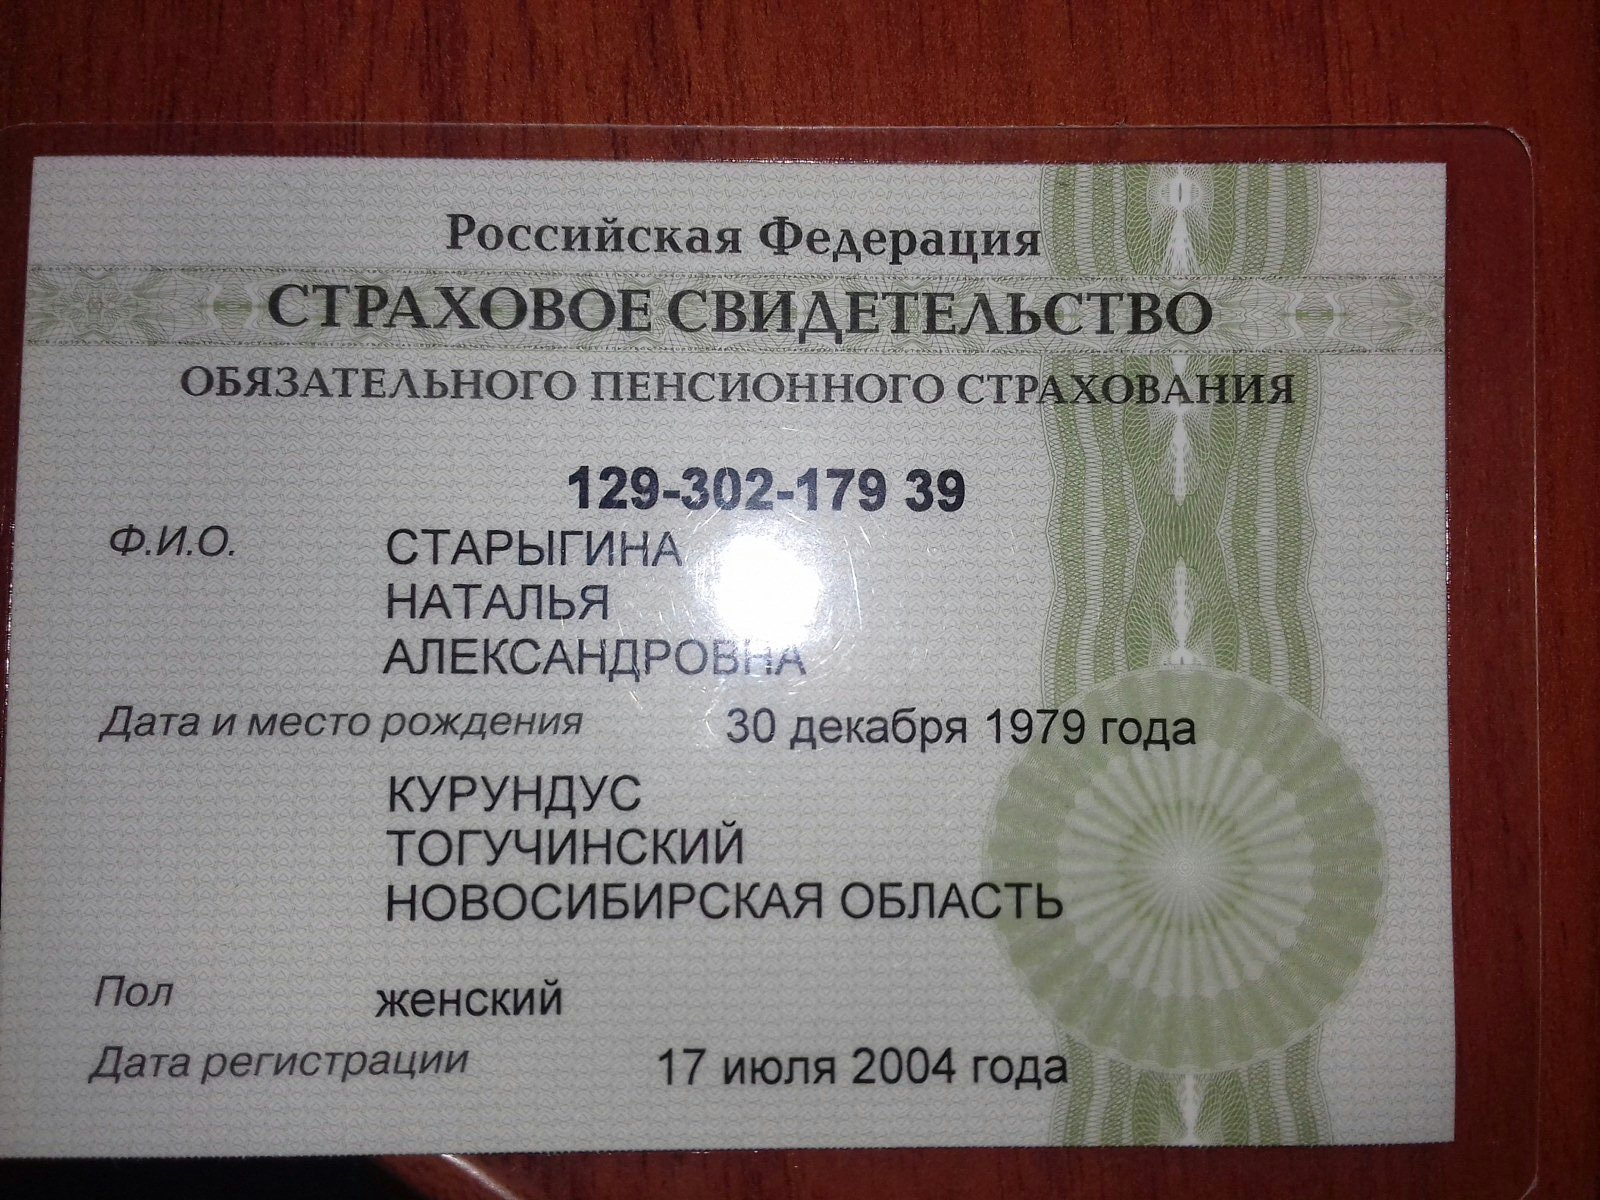text: (380, 874, 1067, 935), (714, 696, 1193, 763), (559, 458, 969, 521), (646, 1041, 1083, 1095), (373, 635, 820, 684), (379, 514, 694, 580), (380, 822, 752, 870), (375, 765, 658, 816), (375, 574, 627, 629), (363, 973, 577, 1029)
